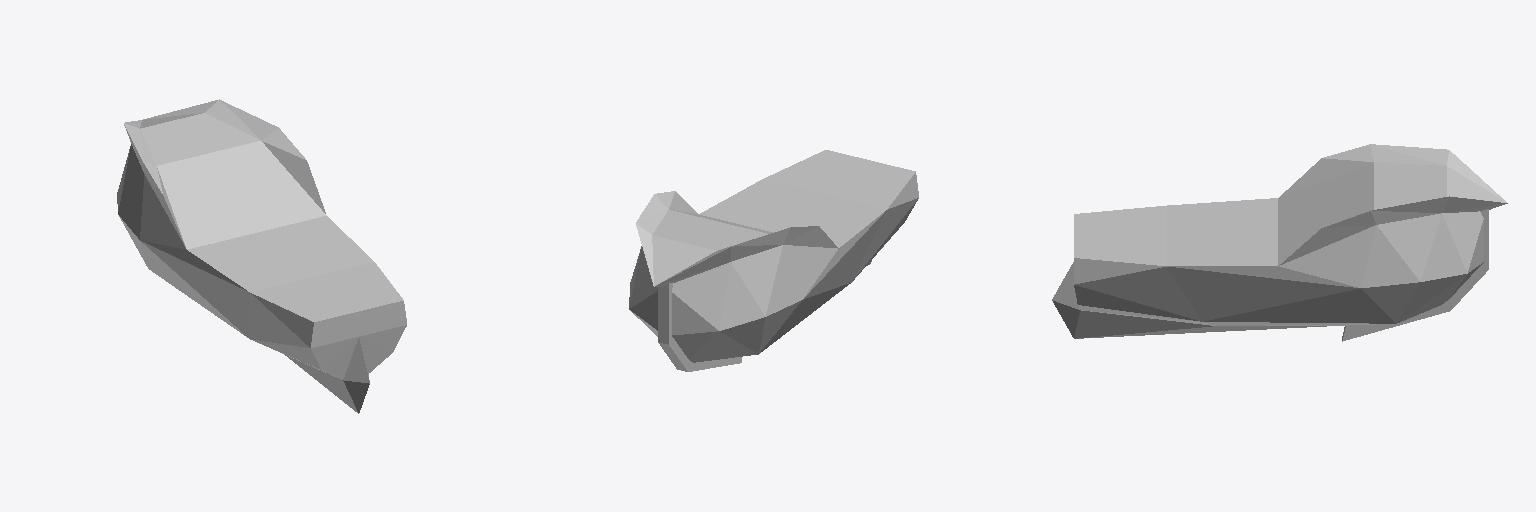
Rendered from hull_0.obj.
3 views of the same model, side by side, from view 1: azimuth 30°, elevation 25°; view 2: azimuth 150°, elevation 25°; view 3: azimuth 270°, elevation 25° (orthographic).
Parts seen in each view (by area): view 1: hull_0; view 2: hull_0; view 3: hull_0.
Part boxes in pixels (x1,y1,x2,y2): hull_0: (117,99,406,413); hull_0: (629,150,918,371); hull_0: (1052,144,1507,341).
Bounding box in the file's own units: 0.3765 × 0.3958 × 0.9866.